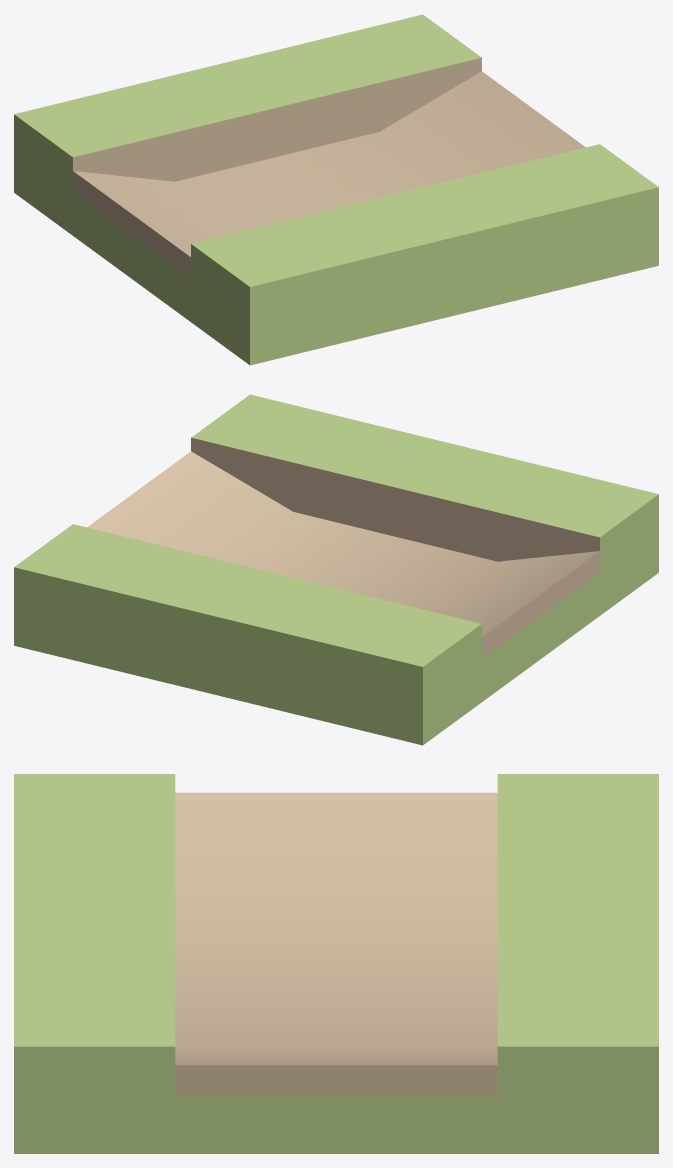
The model's file is tile233.glb.
3 renders of one model, top to bottom at view 1: azimuth 30°, elevation 25°; view 2: azimuth 150°, elevation 25°; view 3: azimuth 270°, elevation 25°, orthographic. The views are drawn at different scales.
Parts seen in each view (by area): view 1: tile233; view 2: tile233; view 3: tile233.
Part boxes in pixels (<box>): tile233: <box>14,14,658,365</box>; tile233: <box>14,394,658,745</box>; tile233: <box>14,774,658,1153</box>.
Size of the model in its own units: 1 by 0.1833 by 1.
